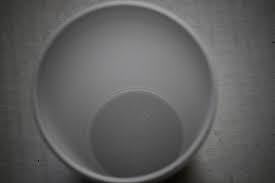Plastic cup: (24, 8, 254, 183)
